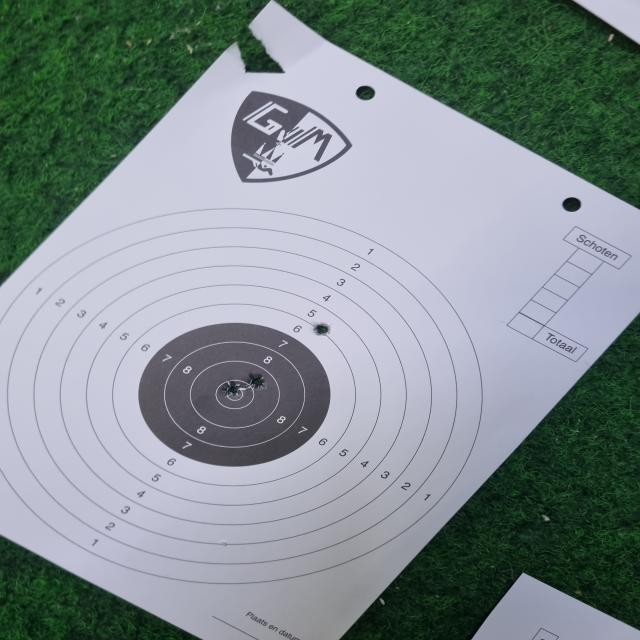2: (219, 380, 247, 398), (246, 372, 266, 389)
7: (312, 323, 332, 336)
Black Contour: (137, 323, 336, 465)
Target: (0, 208, 484, 584)
